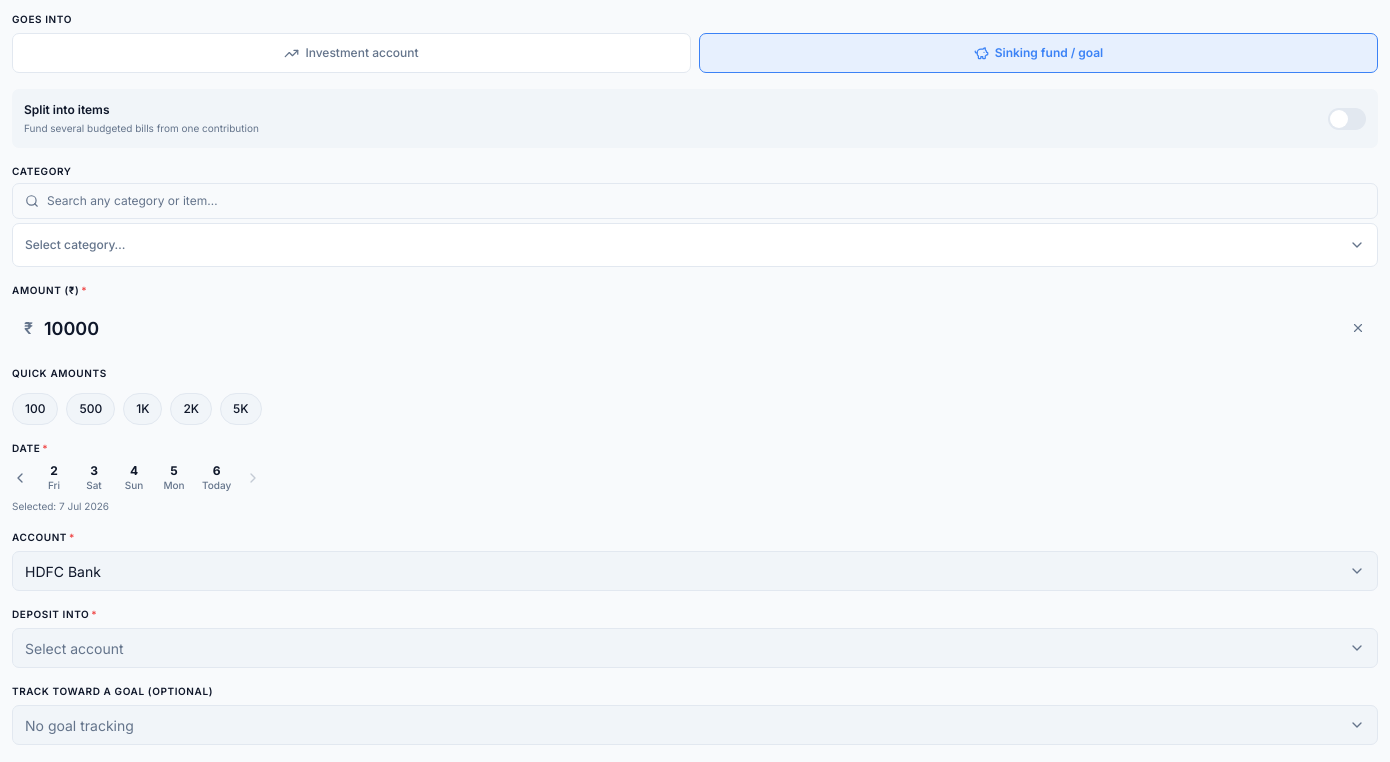
Test: InvestmentForm — Sinking fund destination › lists every sinking fund with its progress toward target
This screenshot has width=1390, height=762.
Step 1. Click the dropdown named "track toward a goal" → (79, 725), box top-left (12, 705), bottom-right (1378, 745)
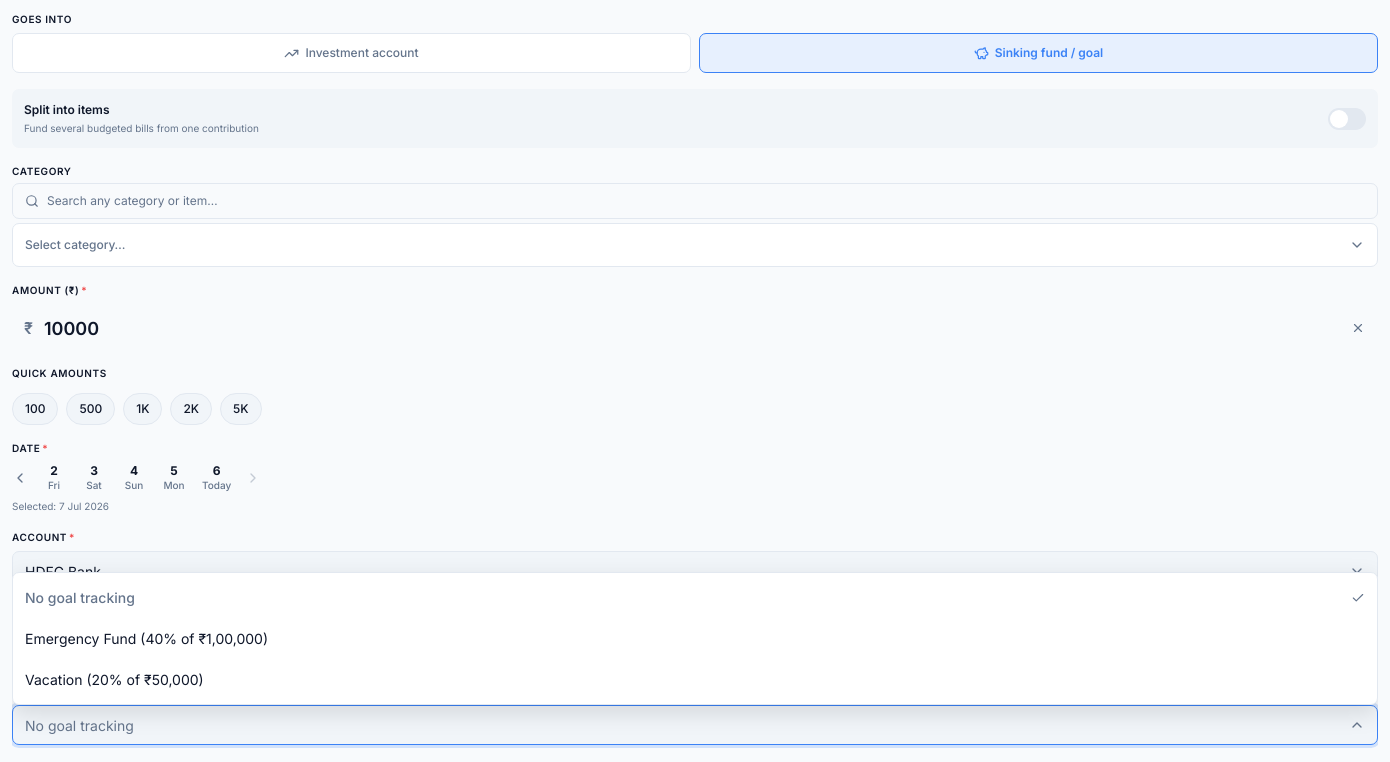
Check: the option "Emergency Fund (40% of ₹1,00,000)" is shown, box top-left (25, 630), bottom-right (268, 647)
Check: the option "Vacation (20% of ₹50,000)" is shown, box top-left (25, 671), bottom-right (204, 688)
